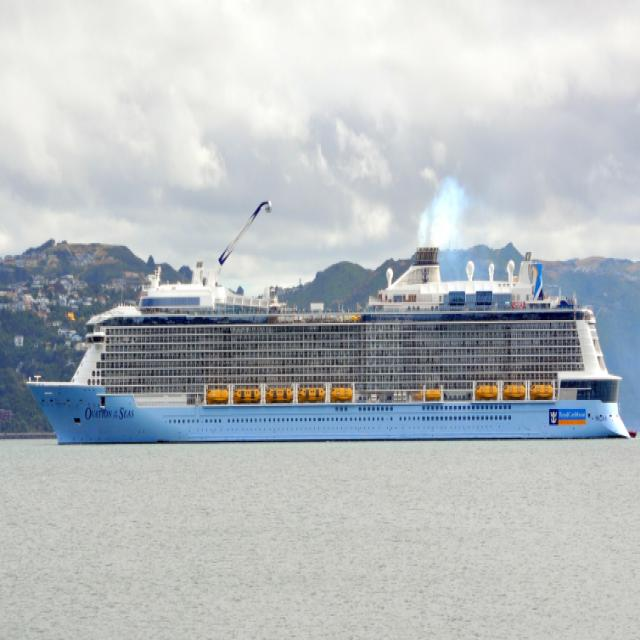cruises: (18, 241, 639, 448)
